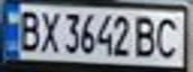2: (112, 11, 133, 57)
3: (60, 9, 81, 54)
4: (93, 10, 115, 56)
6: (78, 10, 96, 55)
B: (133, 12, 160, 60), (15, 7, 42, 53)
C: (151, 15, 184, 61)
X: (36, 7, 60, 53)
